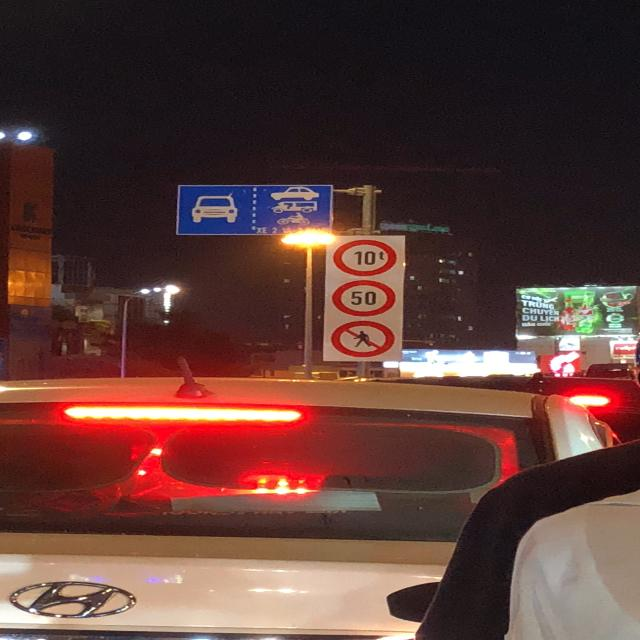Bien bao cam nguoi di bo: (330, 318, 400, 358)
Bien bao toc do toi da cho phep: (330, 278, 402, 318)
